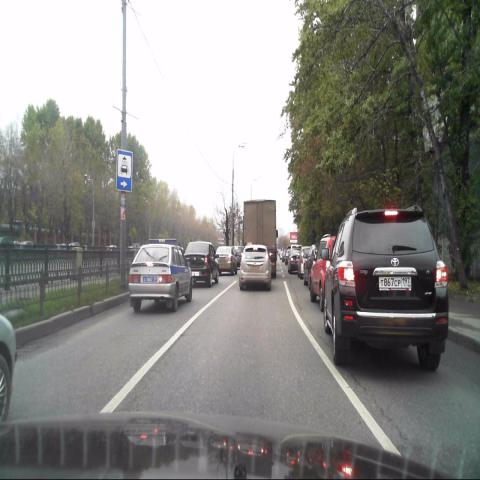7_5: (116, 148, 133, 193)
